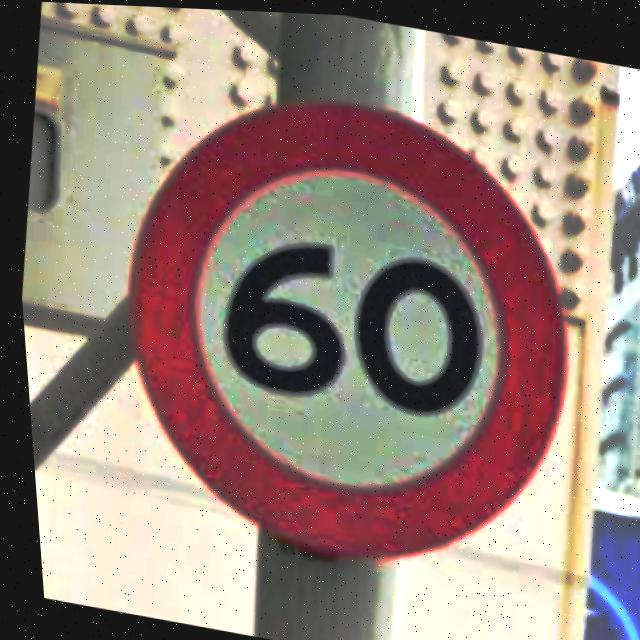max60: (76, 56, 609, 595)
